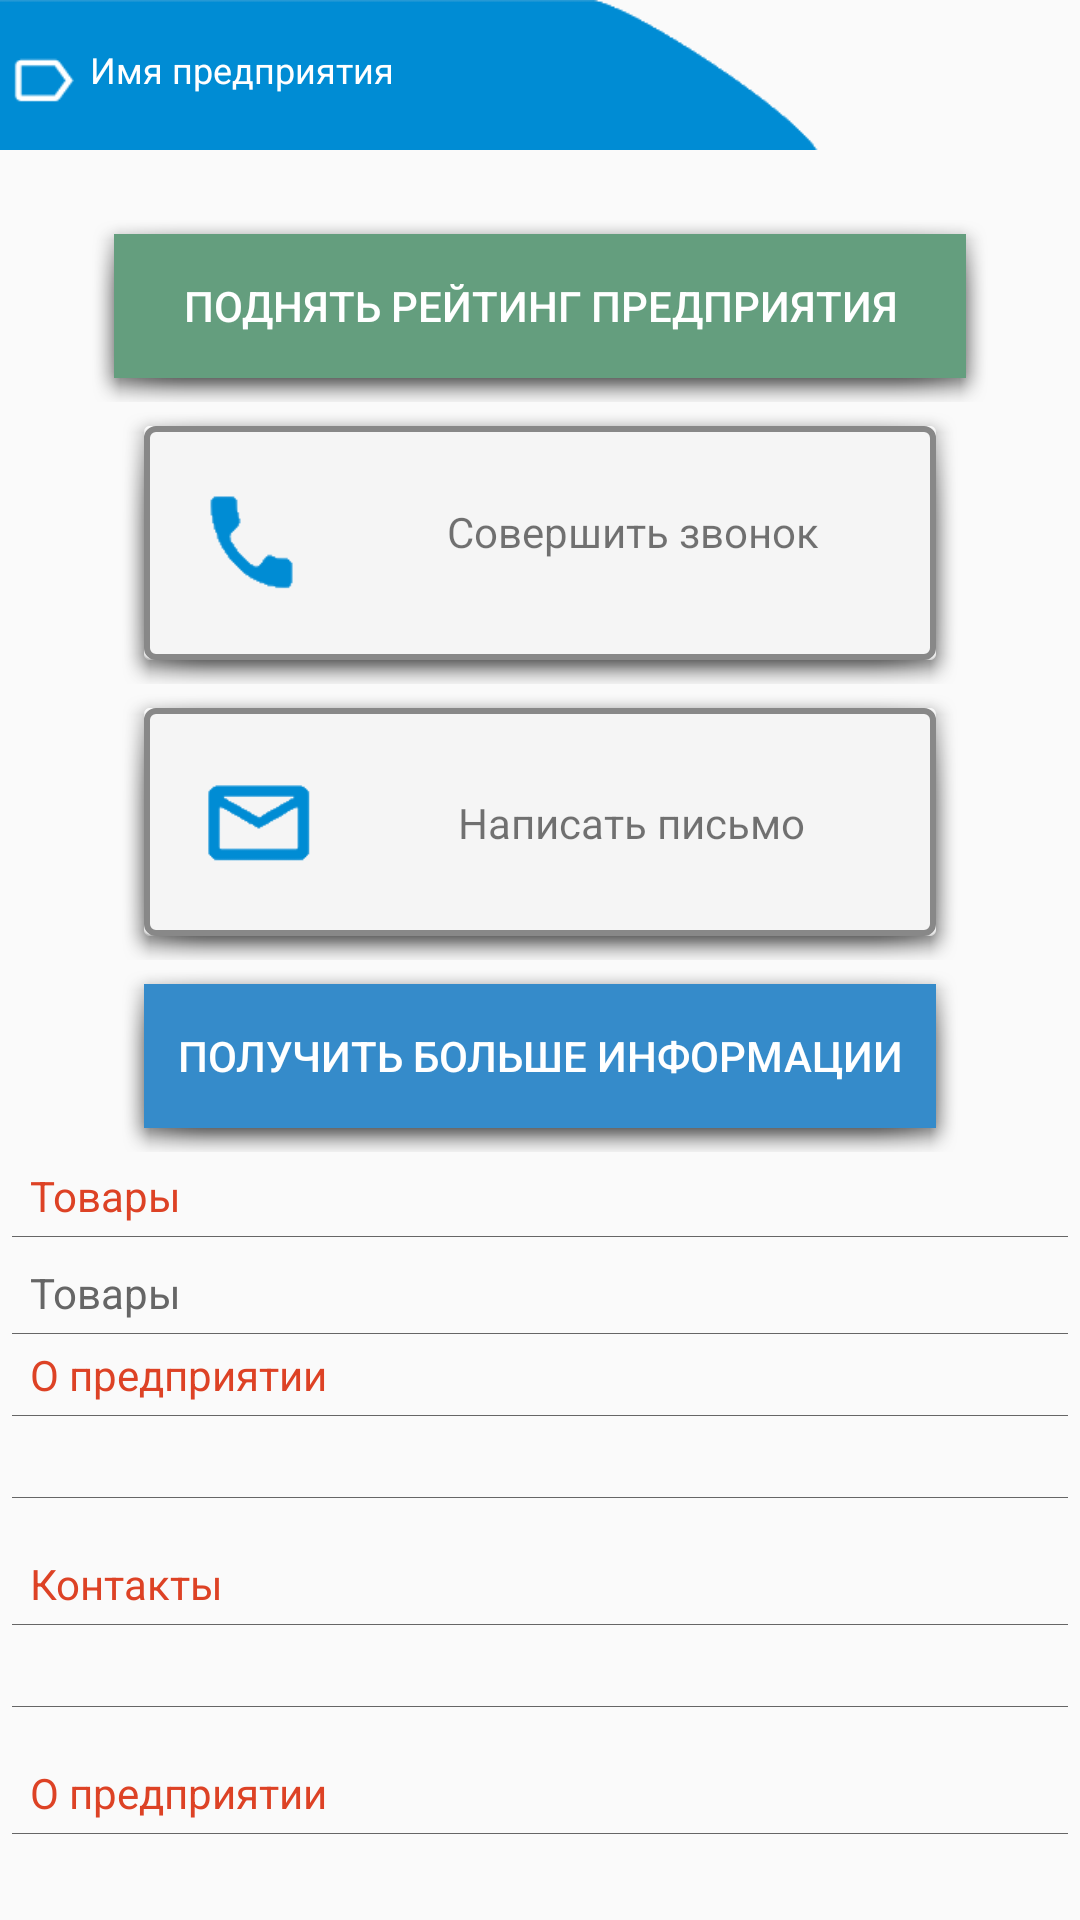

Screen size 1080px x 1920px. Icon name, then its center in pixels as (x,y):
call: (251,542)
mail: (259,823)
